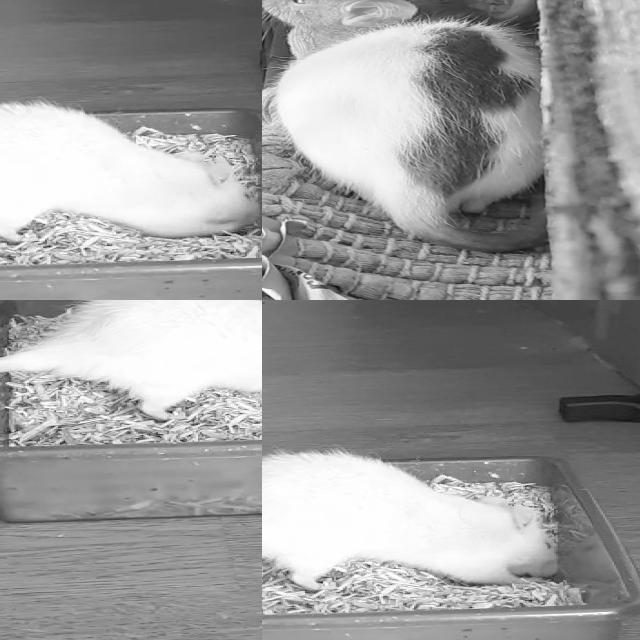rat: (262, 0, 543, 217), (262, 452, 569, 591), (0, 102, 262, 250), (58, 300, 262, 415)
